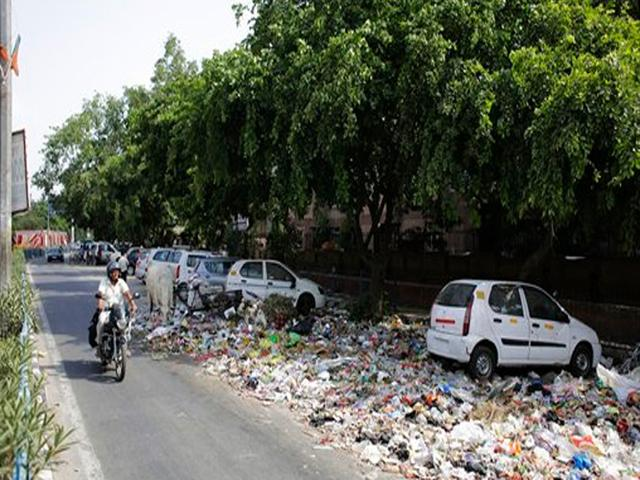garbage: (219, 309, 416, 415), (366, 394, 633, 471)
